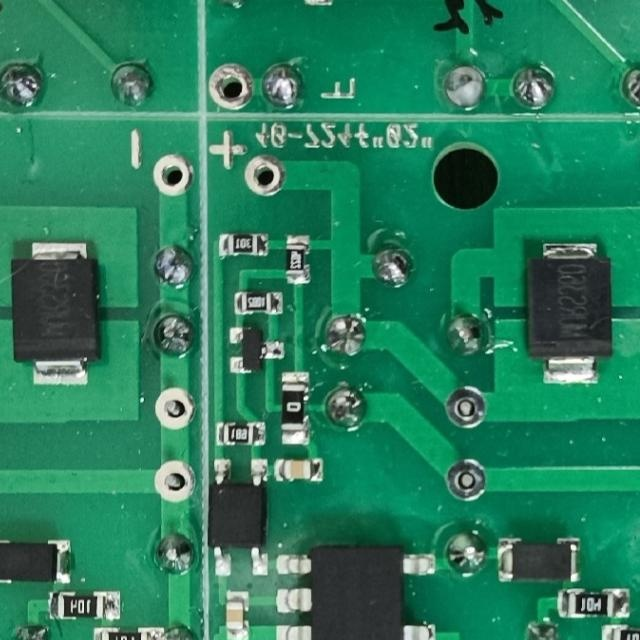chip-capacitor: (271, 458, 323, 484), (224, 589, 248, 640)
chip-resistor: (42, 589, 122, 622), (554, 588, 629, 620), (278, 370, 309, 447), (211, 420, 266, 448), (283, 232, 310, 288), (215, 231, 269, 258), (230, 291, 284, 316), (598, 623, 640, 640)
diode: (7, 241, 101, 389), (523, 241, 612, 387), (495, 535, 581, 585), (0, 538, 71, 586)
ic: (272, 544, 436, 640), (205, 456, 268, 579)
transistor: (226, 325, 285, 377)
